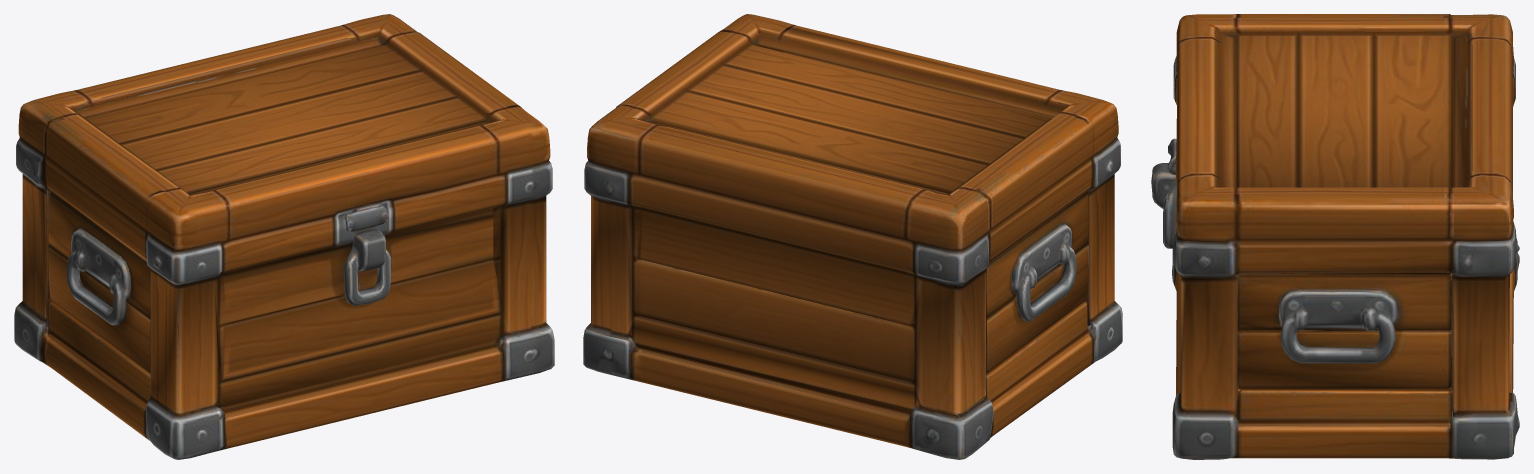
Rendered from storage.glb.
3 views of the same model, side by side, from view 1: azimuth 30°, elevation 25°; view 2: azimuth 150°, elevation 25°; view 3: azimuth 270°, elevation 25° (orthographic). The views are drawn at different scales.
Bounding box in the file's own units: 1.91 × 1.14 × 1.47.
1 material, 1 textured.
